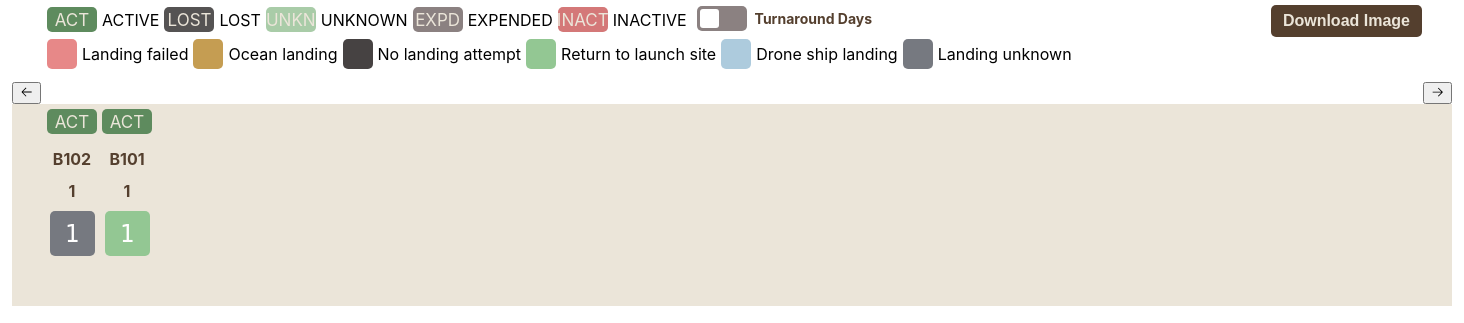
Test case: each core links to the mission with its own landing outcome and keyboard preview
The width and height of the screenshot is (1464, 323).
Focus the link named "B101: Heavy demo" at (127, 234), box [104,211,150,256]
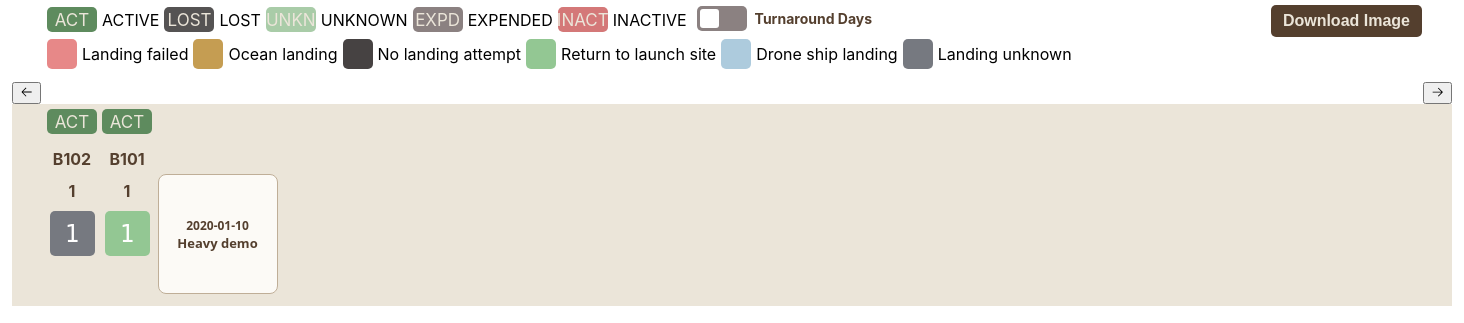
Now the text "2020-01-10" is shown, box [186,220,249,233]
Leave the link with aria-label "B101: Heavy demo", box [104,211,150,256]
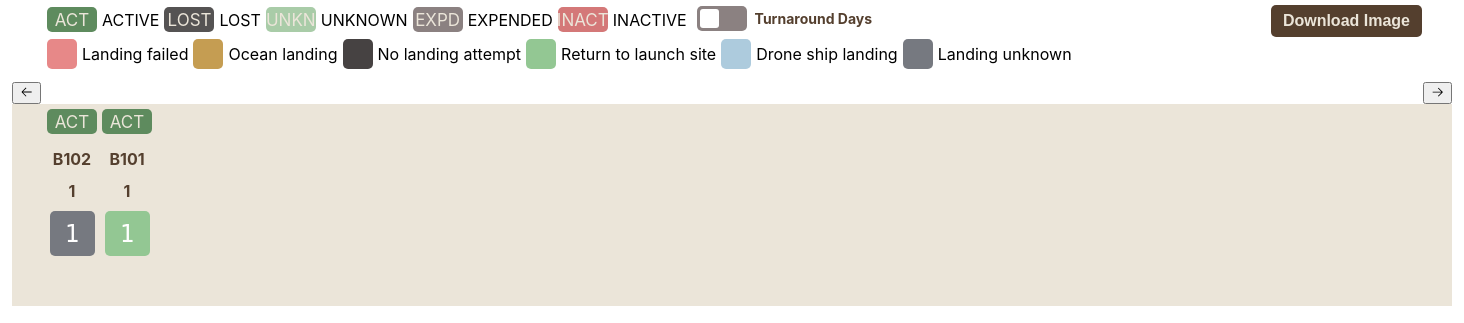
Now the text "2020-01-10" is gone
